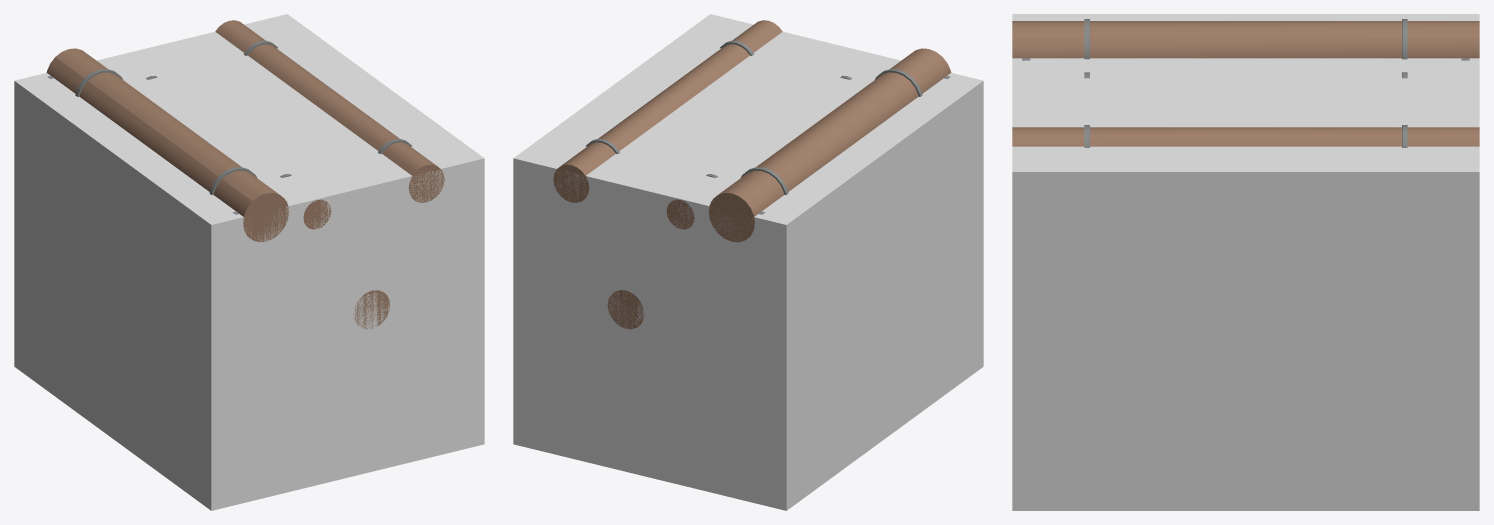
The model's file is pipe_rack.glb.
3 renders of one model, left to right at view 1: azimuth 30°, elevation 25°; view 2: azimuth 150°, elevation 25°; view 3: azimuth 270°, elevation 25°, orthographic. The views are drawn at different scales.
Visible parts, largest first — view 1: COL_pipe_rack, pipe_rack_steel, pipe_rack_nc7_edge; view 2: COL_pipe_rack, pipe_rack_steel, pipe_rack_nc7_edge; view 3: COL_pipe_rack, pipe_rack_steel, pipe_rack_nc7_edge.
Boxes of the visible parts, x1,y1,x2,y2 form: COL_pipe_rack: (14,14,484,510); pipe_rack_steel: (46,20,444,329); pipe_rack_nc7_edge: (75,40,411,194); COL_pipe_rack: (513,14,983,510); pipe_rack_steel: (553,20,951,329); pipe_rack_nc7_edge: (586,40,922,194); COL_pipe_rack: (1012,14,1479,510); pipe_rack_steel: (1012,21,1479,146); pipe_rack_nc7_edge: (1084,19,1407,147).
Bounding box in the file's own units: 4 × 4.28 × 5.
